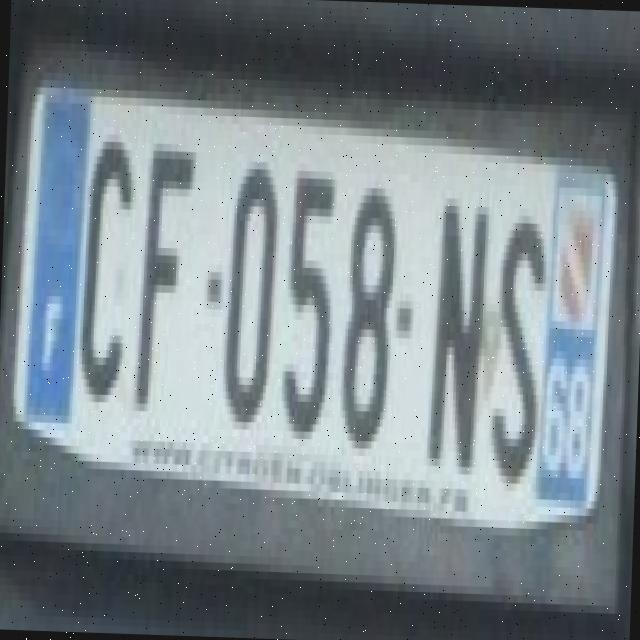EU: (13, 77, 619, 533)
France: (14, 84, 91, 426)
